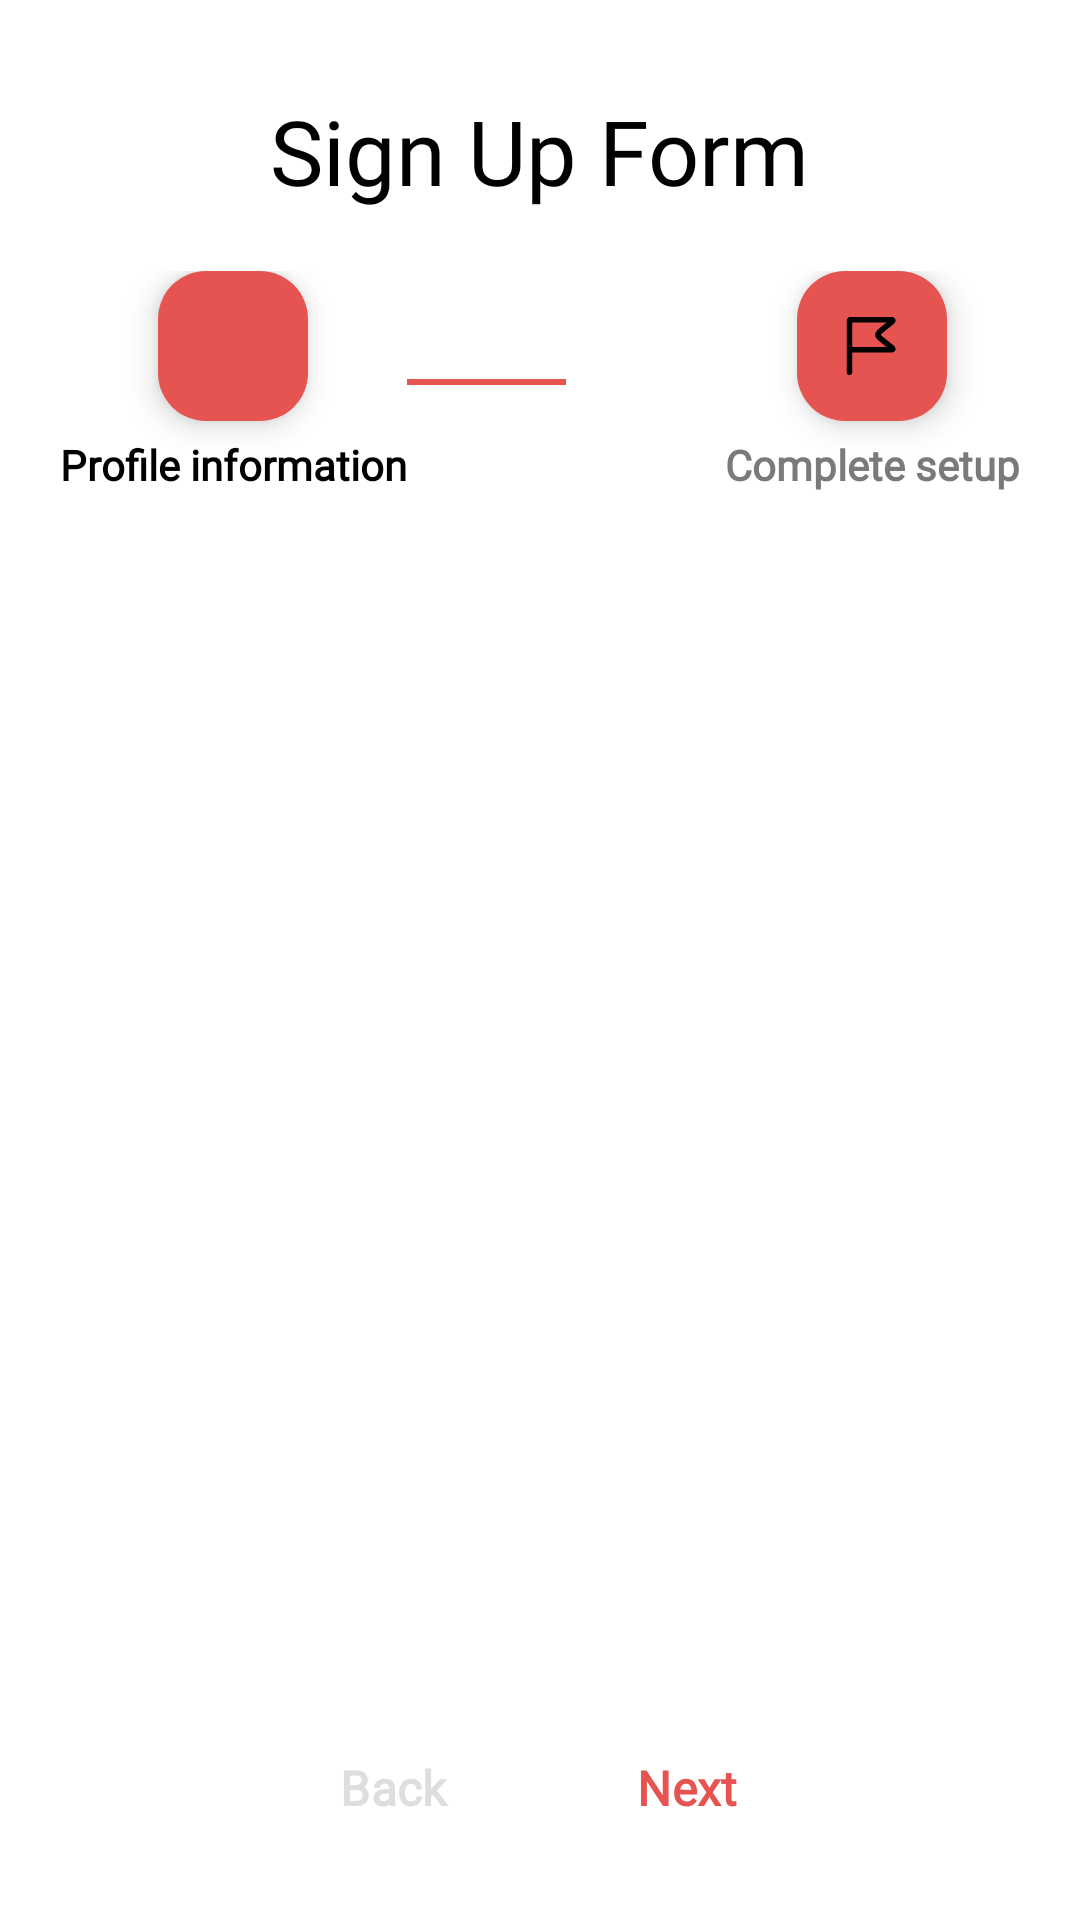

Icons on this 1080×1920 Android screen, each with its box as (x1, y1, x2, y2):
flag: (797, 271, 947, 421)
